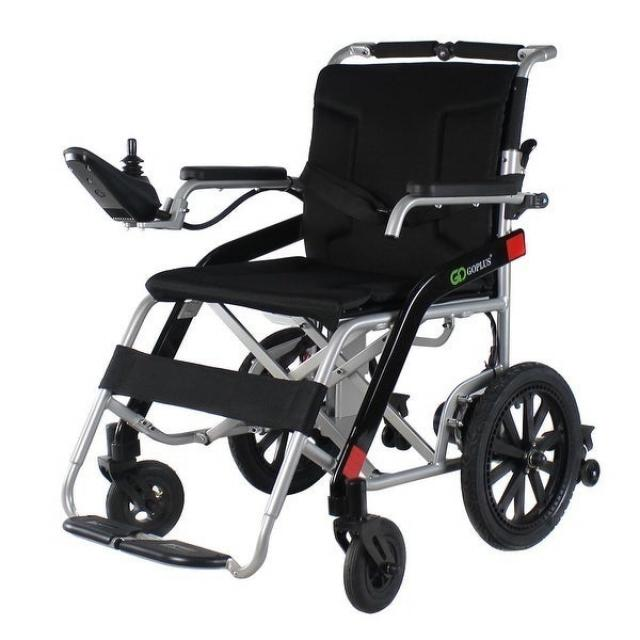wheelchair: (45, 29, 620, 618)
